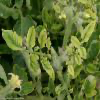Tomato leaf yellow virus: (1, 27, 24, 53), (81, 20, 97, 47), (41, 57, 56, 83), (28, 52, 40, 79), (27, 25, 36, 48), (70, 33, 81, 50), (79, 46, 88, 66), (39, 25, 46, 46), (66, 65, 76, 79)
